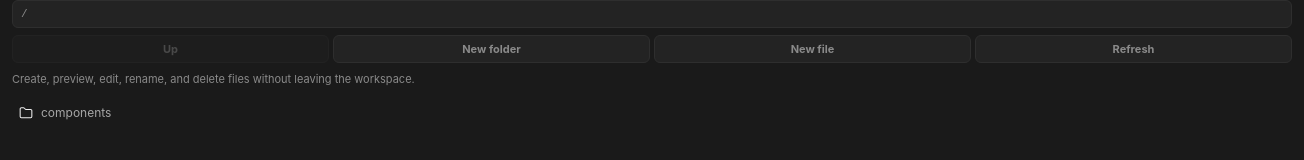
Test: WorkspaceFilePanel - Folder Operations Unit Tests › Folder selection navigates into folder (Requirement 4.1, 4.2, 4.3) › should update path display when navigating into folder
Expected: the text "components" is shown, x1=41 y1=105 x2=111 y2=120
Click the button "components". click: (76, 112)
box: x1=12 y1=96 x2=1292 y2=130
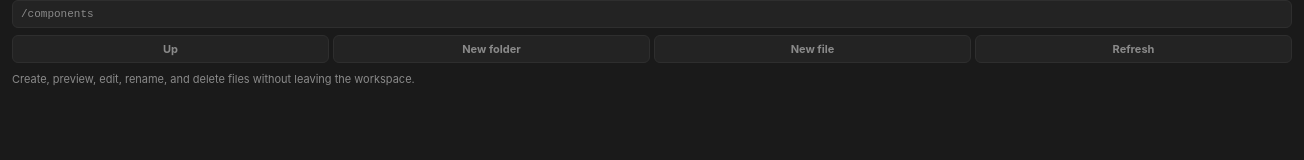
Expected: the text "/components" is shown, x1=12 y1=0 x2=1292 y2=28
